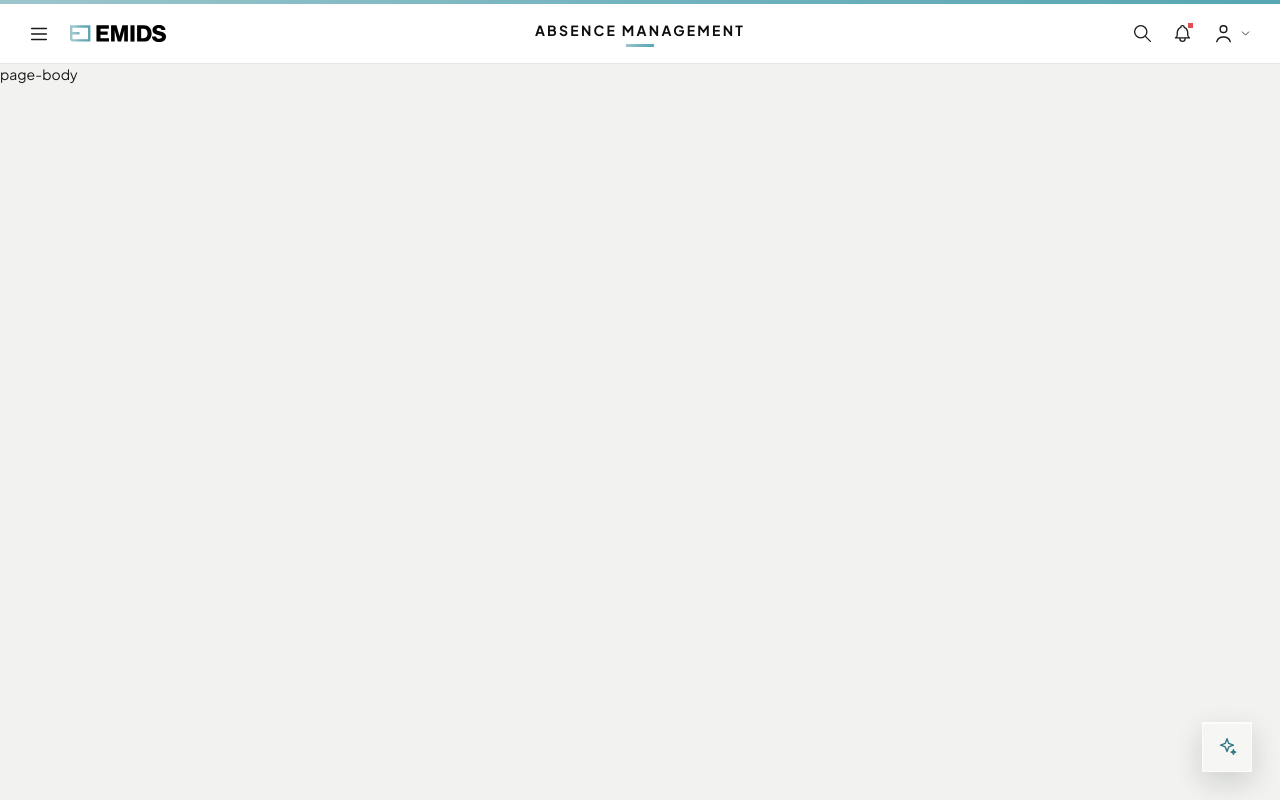
Test: components/Layout › renders the pinned header, page body and the drawer nav with six links
Expected: the text "Absence Management" is shown, [535,20,745,47]
Expected: the text "page-body" is shown, [0,65,78,83]
Click the button named "Menu" at (39, 34), box [20,14,58,52]
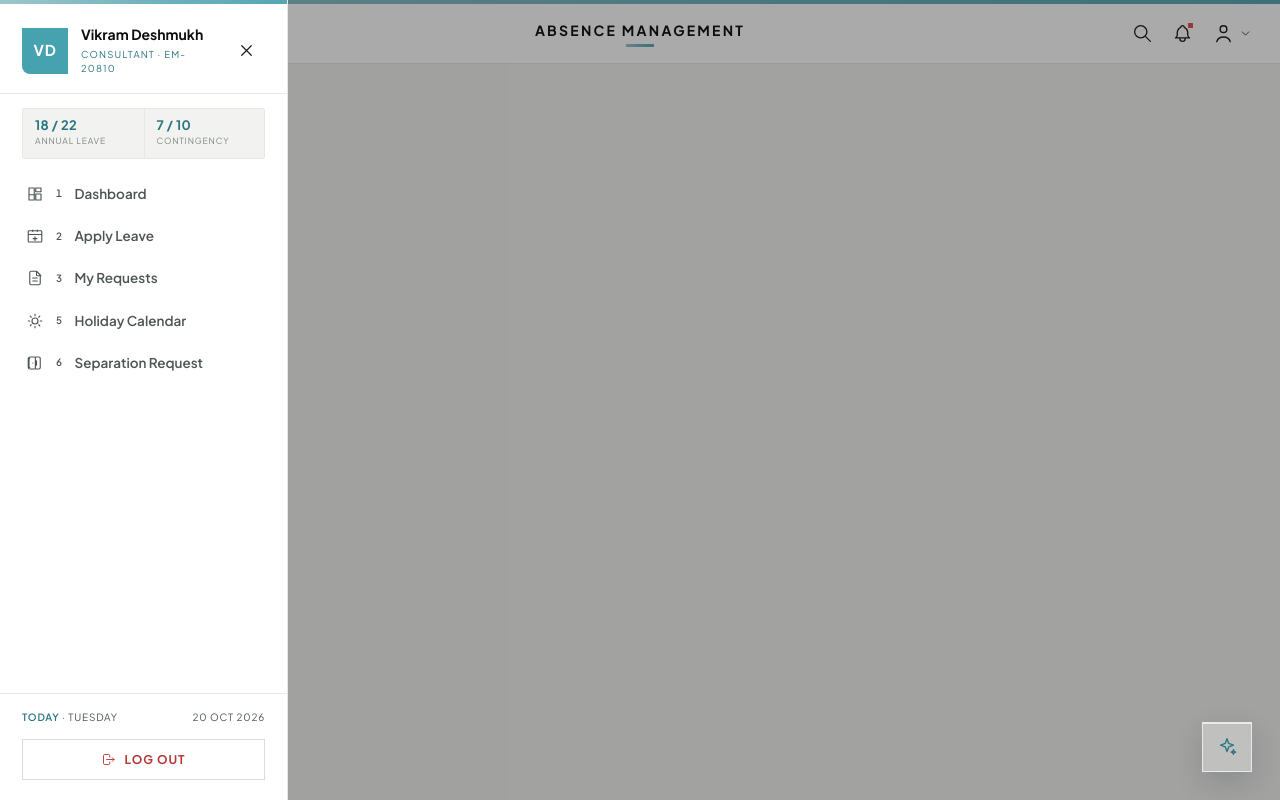
Expected: the text "Dashboard" is shown, [74,185,147,202]
Expected: the text "Apply Leave" is shown, [74,227,154,244]
Expected: the text "My Requests" is shown, [74,269,158,286]
